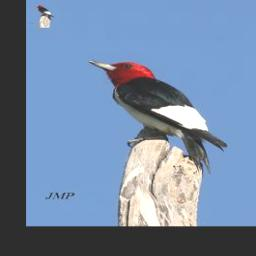Woodpecker: (83, 59, 233, 174)
